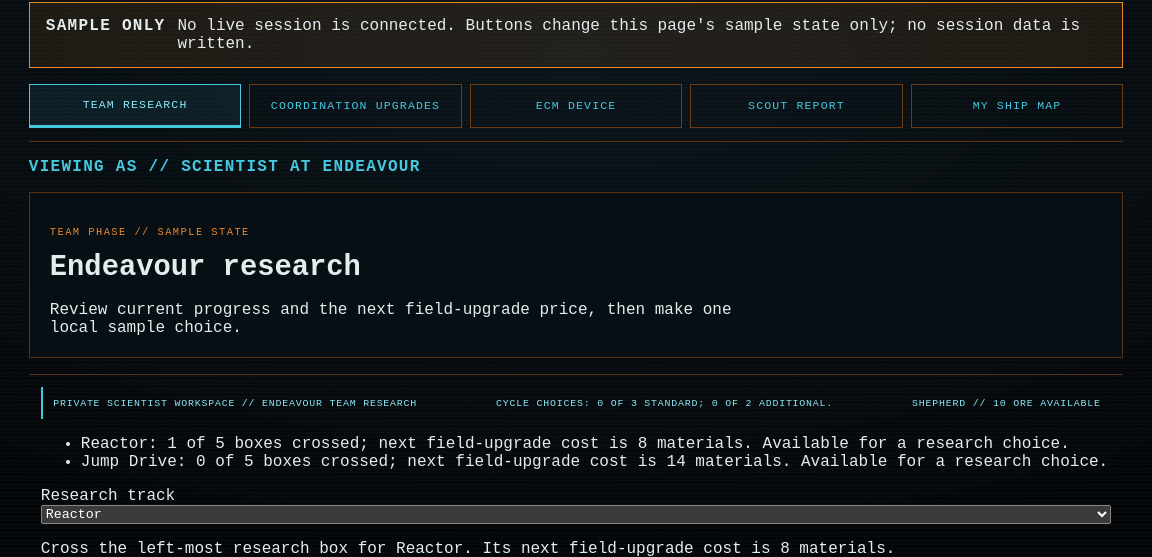
Test: shows the complete local ECM ready, working, success, and spent sequence
Click the button "ECM Device" at x=576, y=106, box [470,84,682,128]
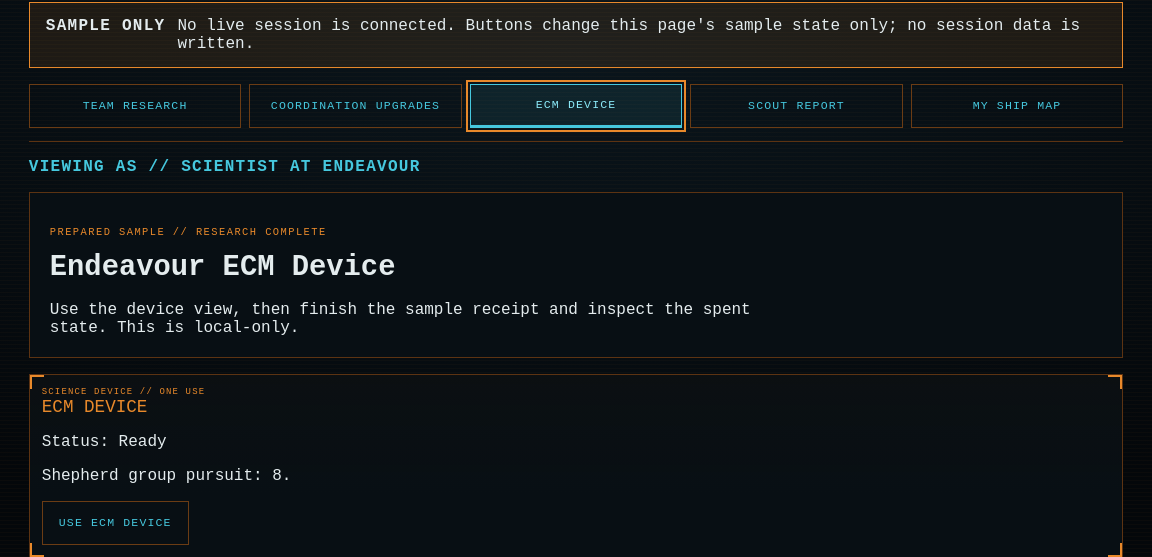
Expected: the text "Status: Ready" is shown, [42,433,167,451]
Click the button "Use ECM Device" at x=115, y=523, box [42,501,189,545]
(page scrolled)
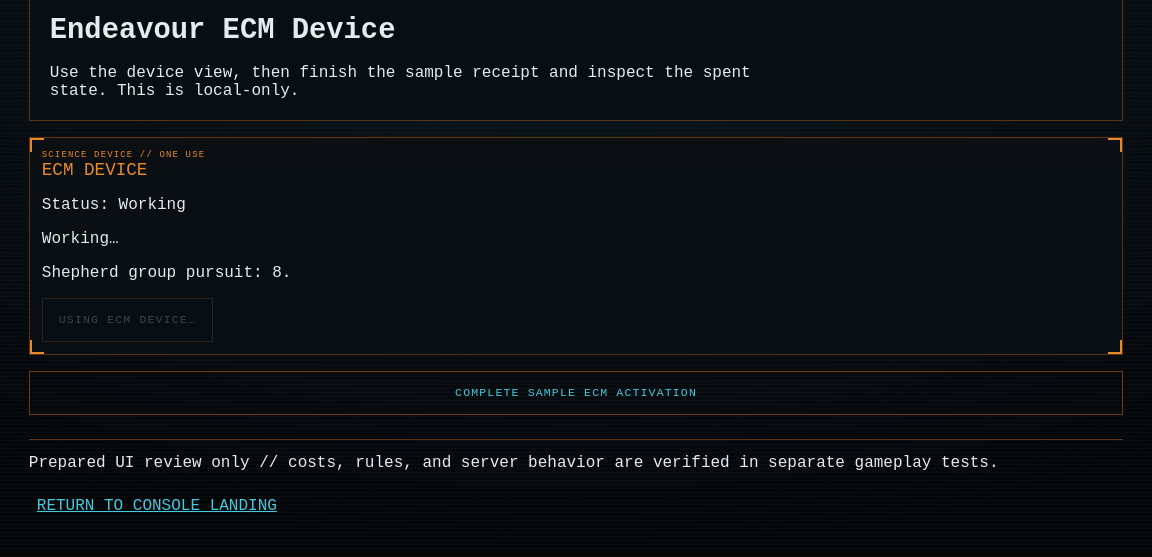
Expected: the text "Status: Working" is shown, [42,196,186,214]
Click the button "Complete sample ECM activation" at x=576, y=393, box [29,371,1123,415]
(page scrolled)
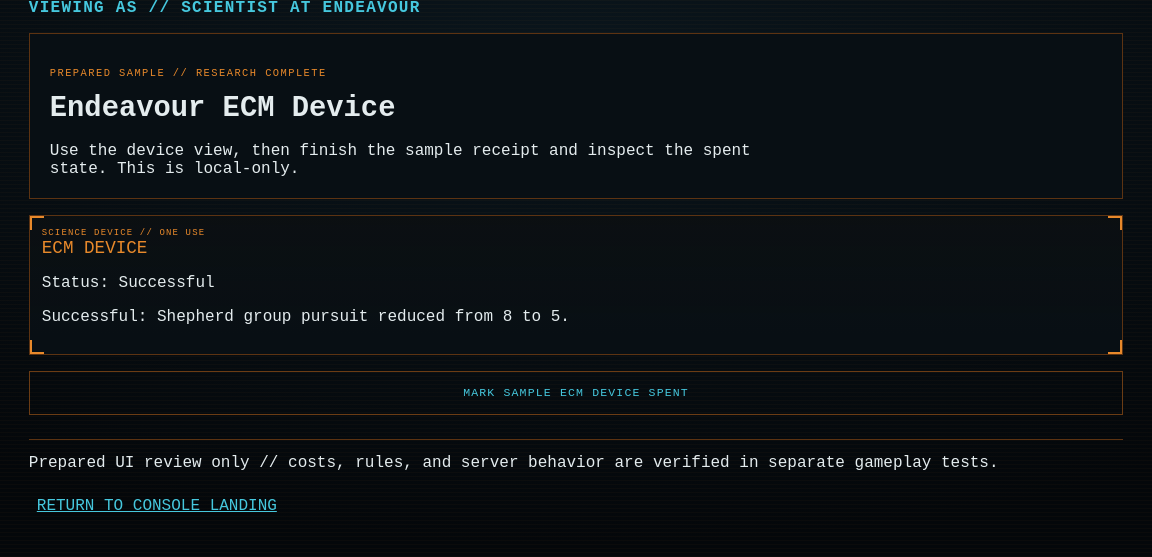
Expected: the text "Status: Successful" is shown, [42,274,215,292]
Click the button "Mark sample ECM device spent" at x=576, y=393, box [29,371,1123,415]
(page scrolled)
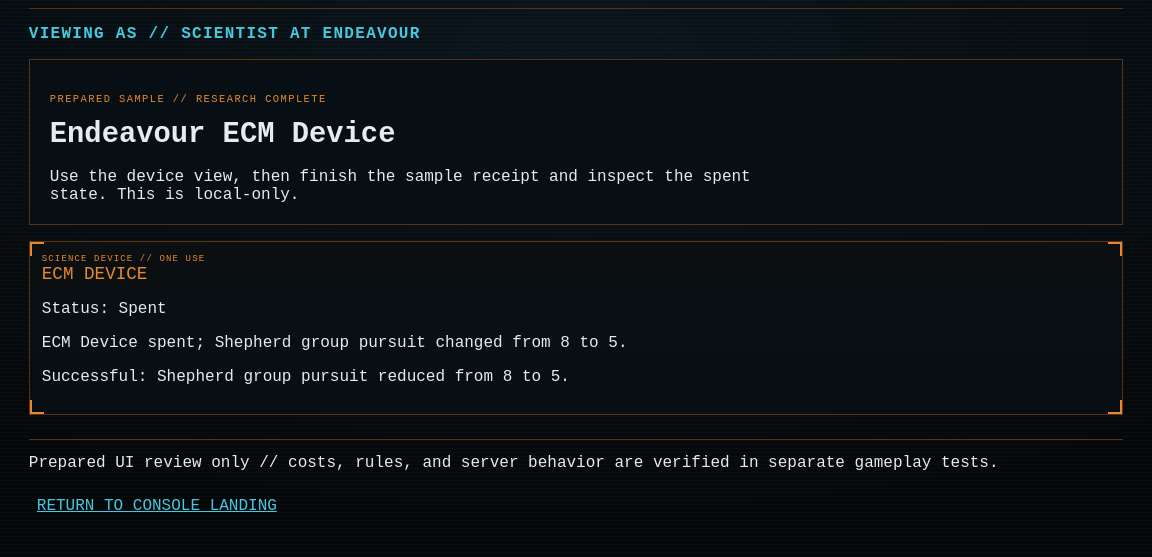
Expected: the text "Status: Spent" is shown, [42,300,167,318]
